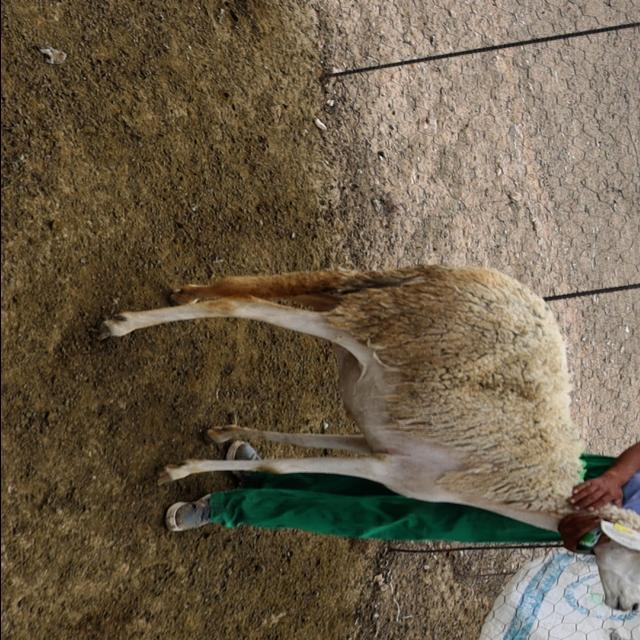Score_2: (100, 265, 640, 612)
